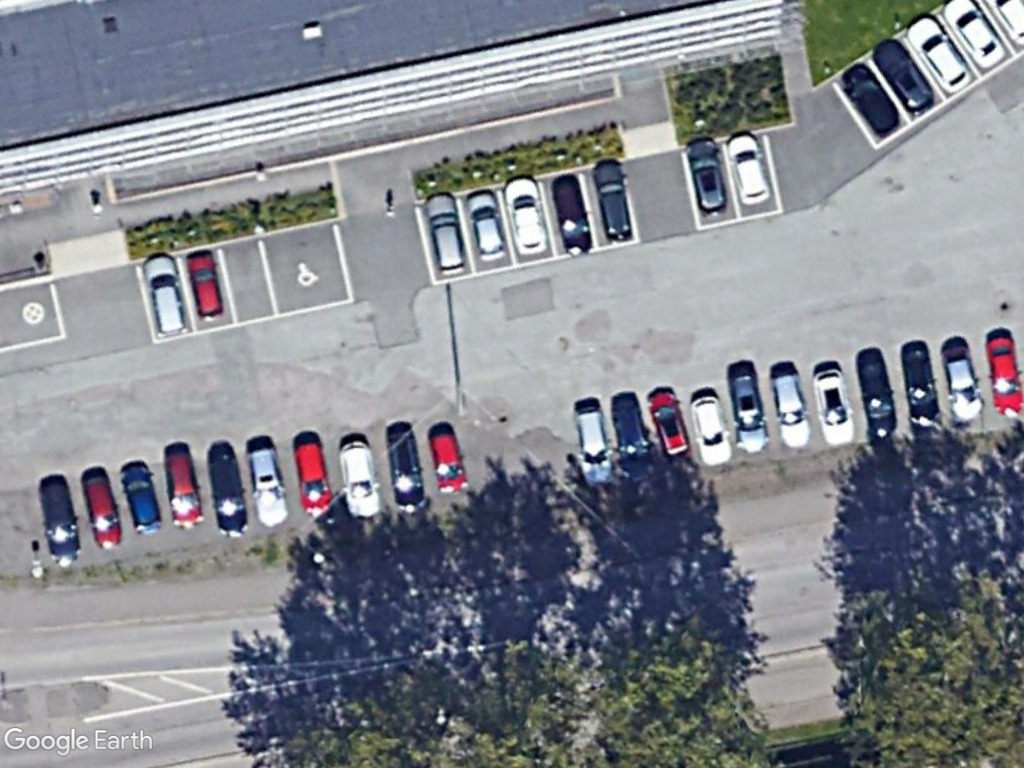car: (902, 10, 975, 98), (867, 32, 939, 118), (378, 419, 433, 520), (838, 60, 903, 141), (678, 133, 735, 223), (137, 252, 193, 343), (853, 343, 904, 442), (159, 442, 212, 537), (501, 171, 556, 262), (807, 365, 864, 452), (894, 339, 947, 432), (722, 366, 775, 459), (423, 187, 474, 282), (242, 444, 296, 533), (34, 472, 84, 568), (332, 434, 385, 524), (546, 171, 599, 260), (76, 468, 129, 557), (203, 448, 252, 544), (588, 156, 638, 249), (937, 339, 988, 429), (569, 399, 619, 490), (942, 0, 1006, 71), (721, 128, 774, 212), (642, 386, 699, 464), (768, 363, 816, 455), (117, 458, 169, 541), (288, 432, 338, 518), (460, 186, 512, 266), (688, 391, 738, 472), (423, 425, 476, 501), (982, 329, 1024, 422), (183, 249, 229, 328)
